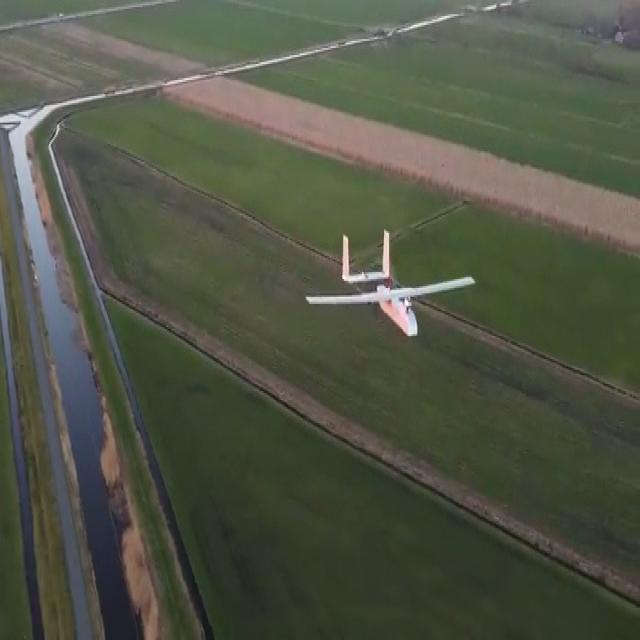iha: (307, 259, 488, 318)
